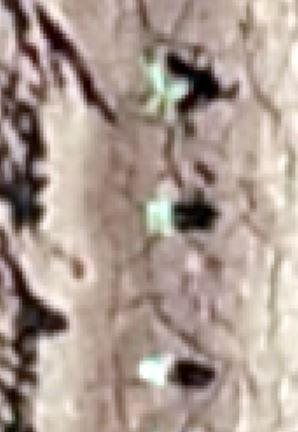cotton: (147, 72, 186, 98), (146, 202, 173, 234), (141, 356, 170, 383)
